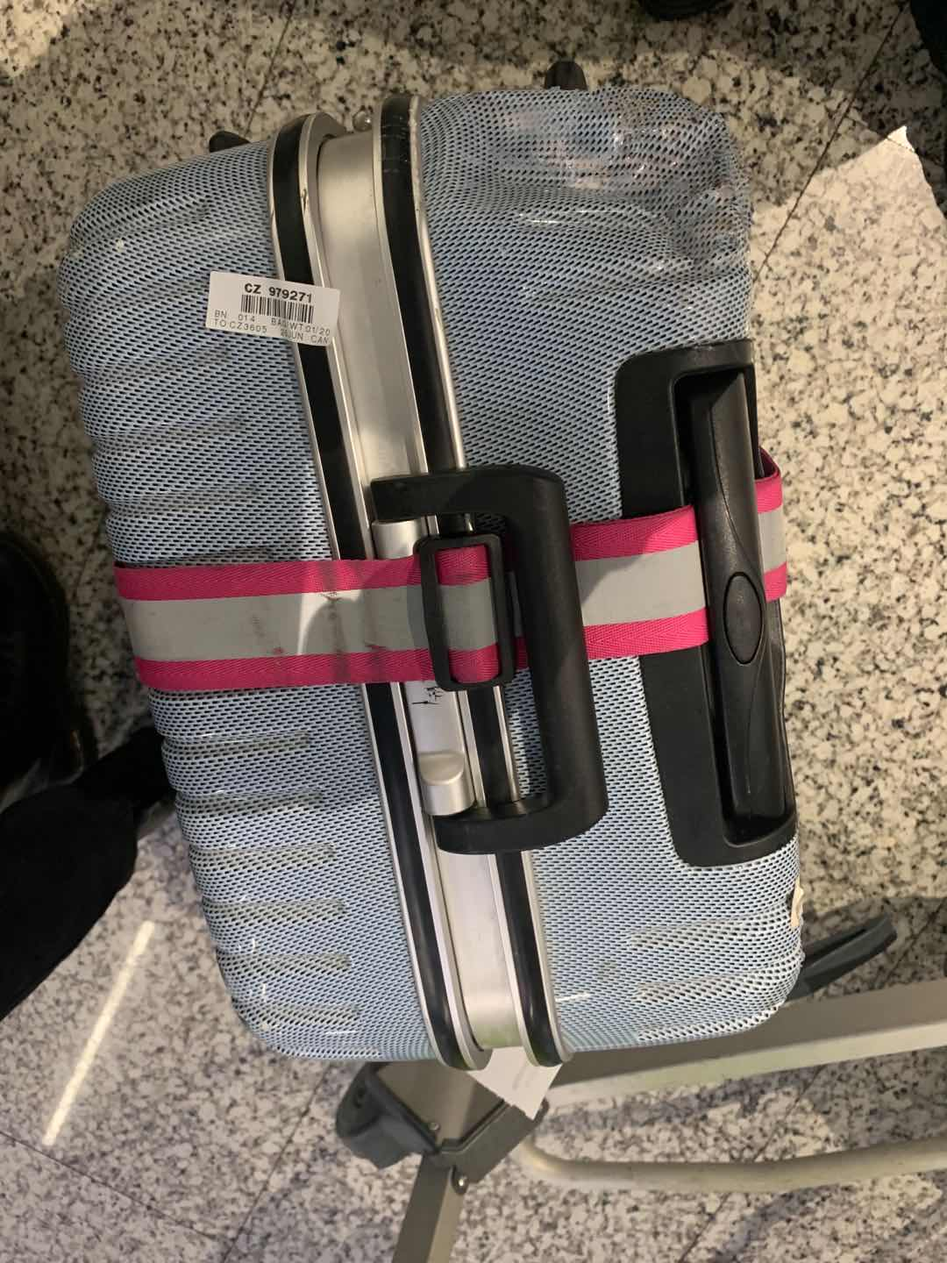hollow: (440, 89, 746, 279)
